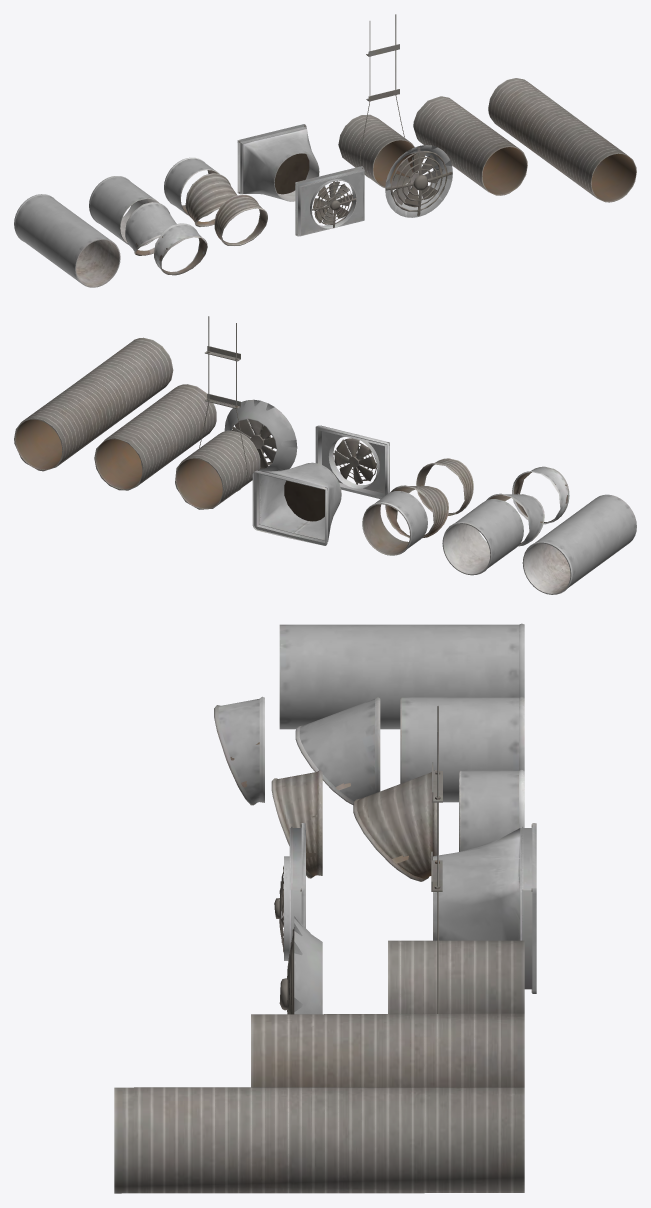
File: modular-airduct-circular-01.glb
3 renders of one model, top to bottom at view 1: azimuth 30°, elevation 25°; view 2: azimuth 150°, elevation 25°; view 3: azimuth 270°, elevation 25°, orthographic. The views are drawn at different scales.
Parts seen in each view (by area): view 1: modular_airduct_rectangular_vent_fan; view 2: modular_airduct_rectangular_vent_fan; view 3: modular_airduct_rectangular_vent_fan.
Part boxes in pixels (<box>): modular_airduct_rectangular_vent_fan: <box>14,14,636,287</box>; modular_airduct_rectangular_vent_fan: <box>14,316,636,594</box>; modular_airduct_rectangular_vent_fan: <box>114,623,536,1193</box>.
Size of the model in its own units: 4.17 by 1.32 by 1.46.
1 material, 1 textured.
